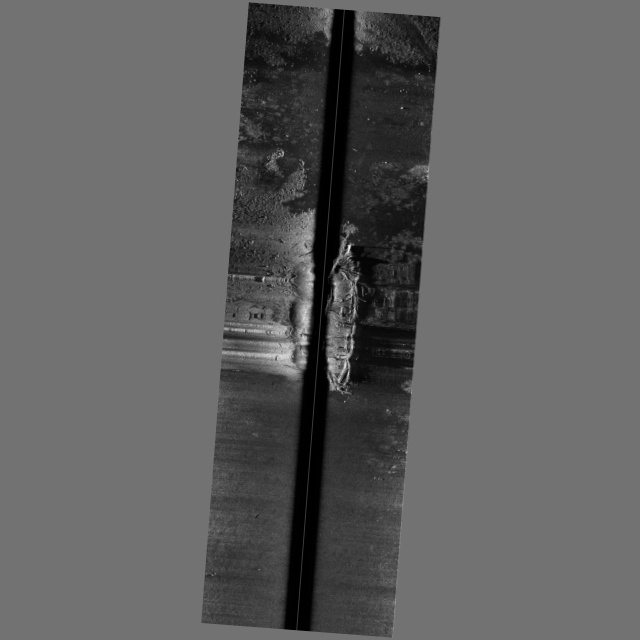Shipwreck: (227, 140, 379, 404)
